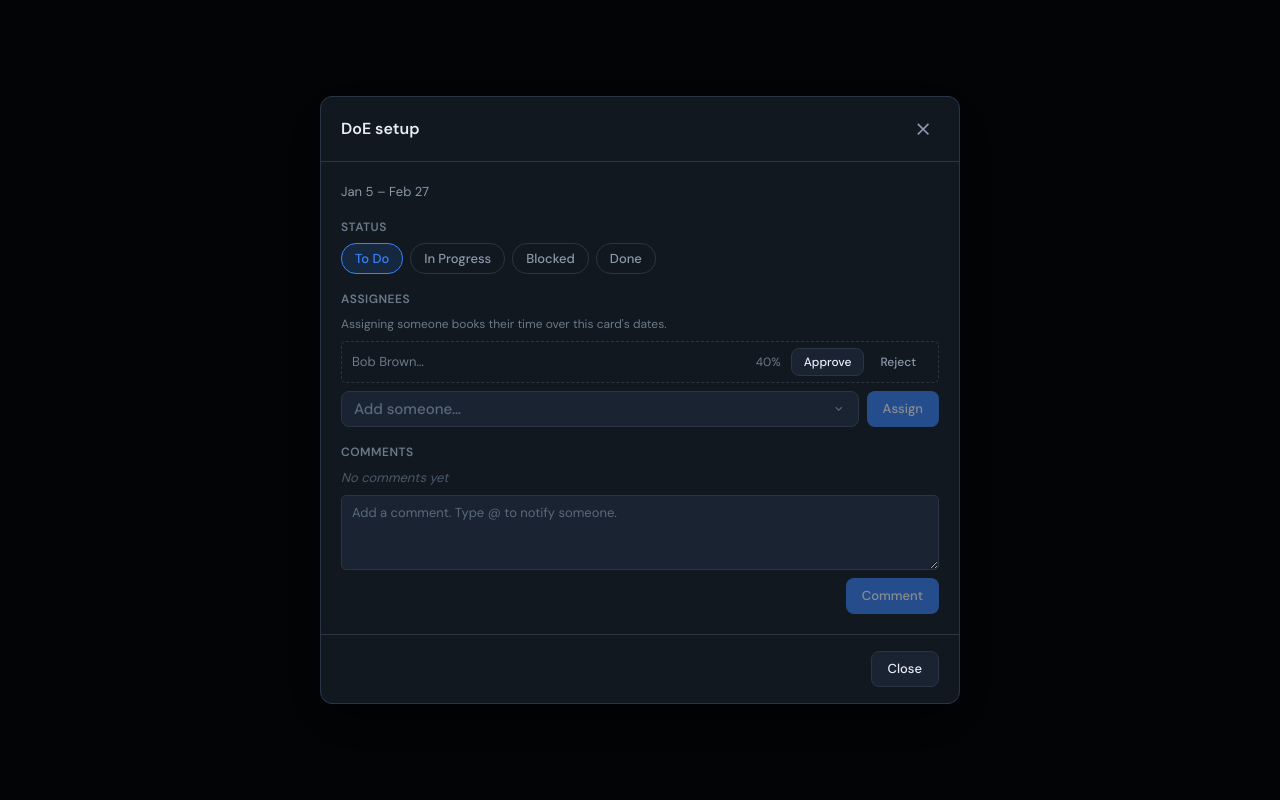
Scenario: KanbanCardModal pending rows › shows a failed reload after a decision in the dialog
Click the button with aria-label "Approve Bob Brown": (828, 362) top-left (791, 348), bottom-right (864, 376)
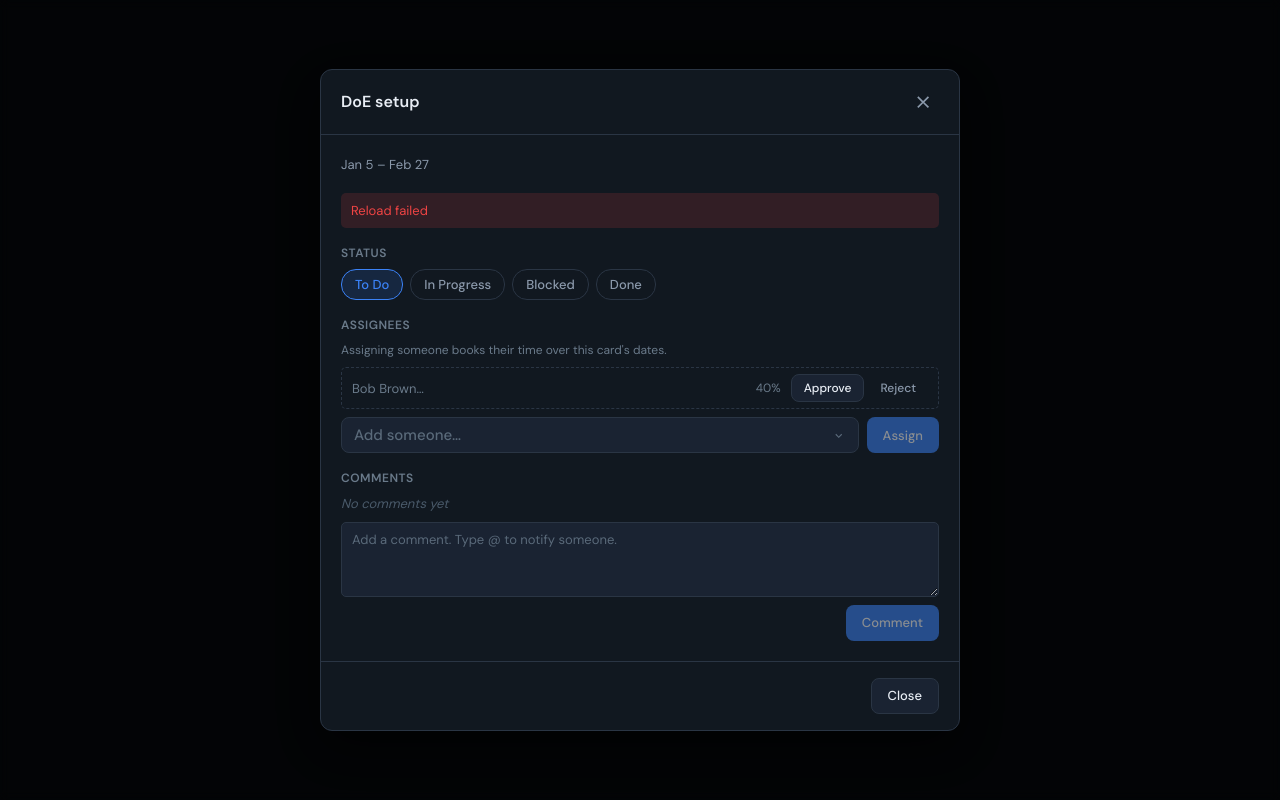
Expected: the text "Reload failed" is shown, top-left (341, 193), bottom-right (939, 228)
